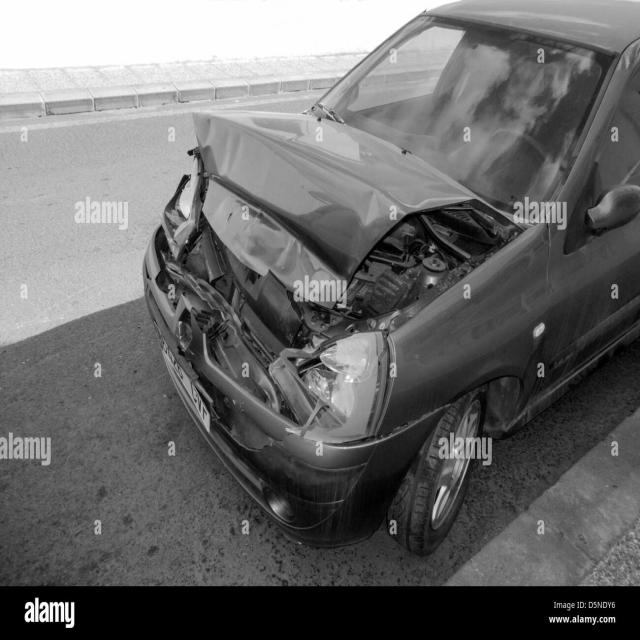crush: (143, 112, 527, 455)
